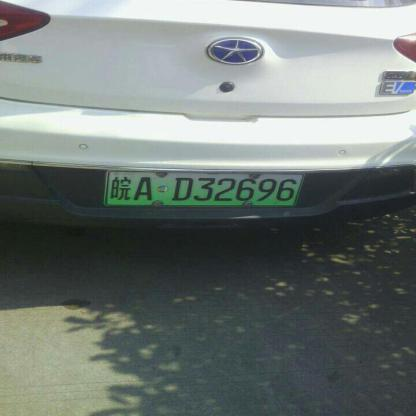lp: (106, 172, 303, 206)
